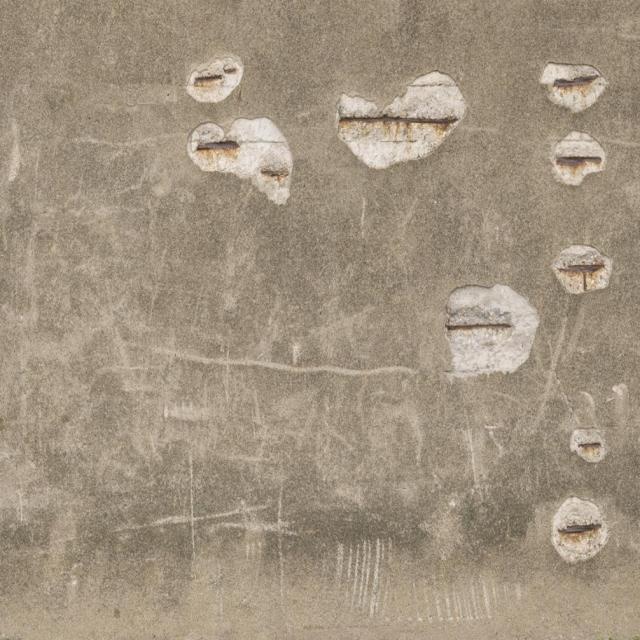Rebar: (333, 67, 467, 168), (441, 282, 541, 381), (185, 116, 294, 206), (551, 495, 608, 563), (539, 58, 608, 113), (549, 126, 605, 188), (548, 244, 612, 294), (186, 55, 245, 103), (570, 426, 606, 464)
